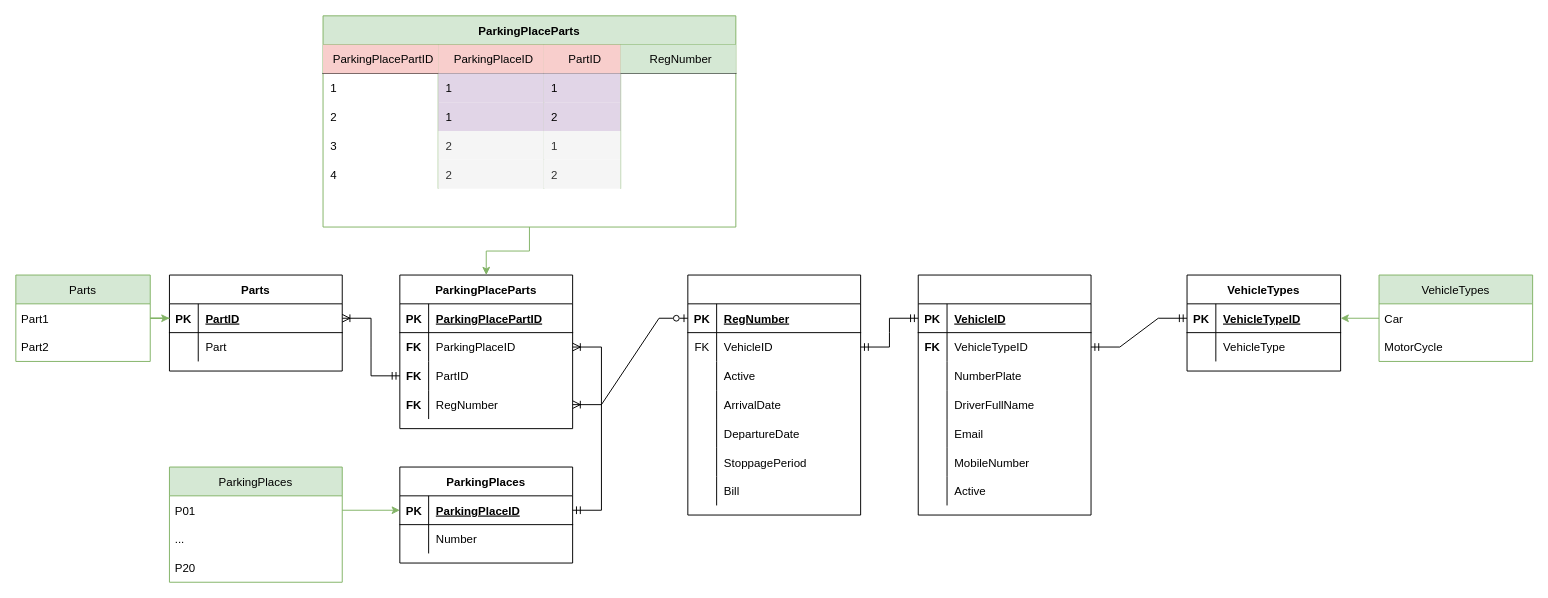
Some shapes in this 1548 by 598 pixel diagram are drawn without their labels. Here are the shapes that lost their labels. From the top down, the box of each, then its label:
(687, 274, 861, 515): ParkingBills
(917, 274, 1091, 515): Vehicles
